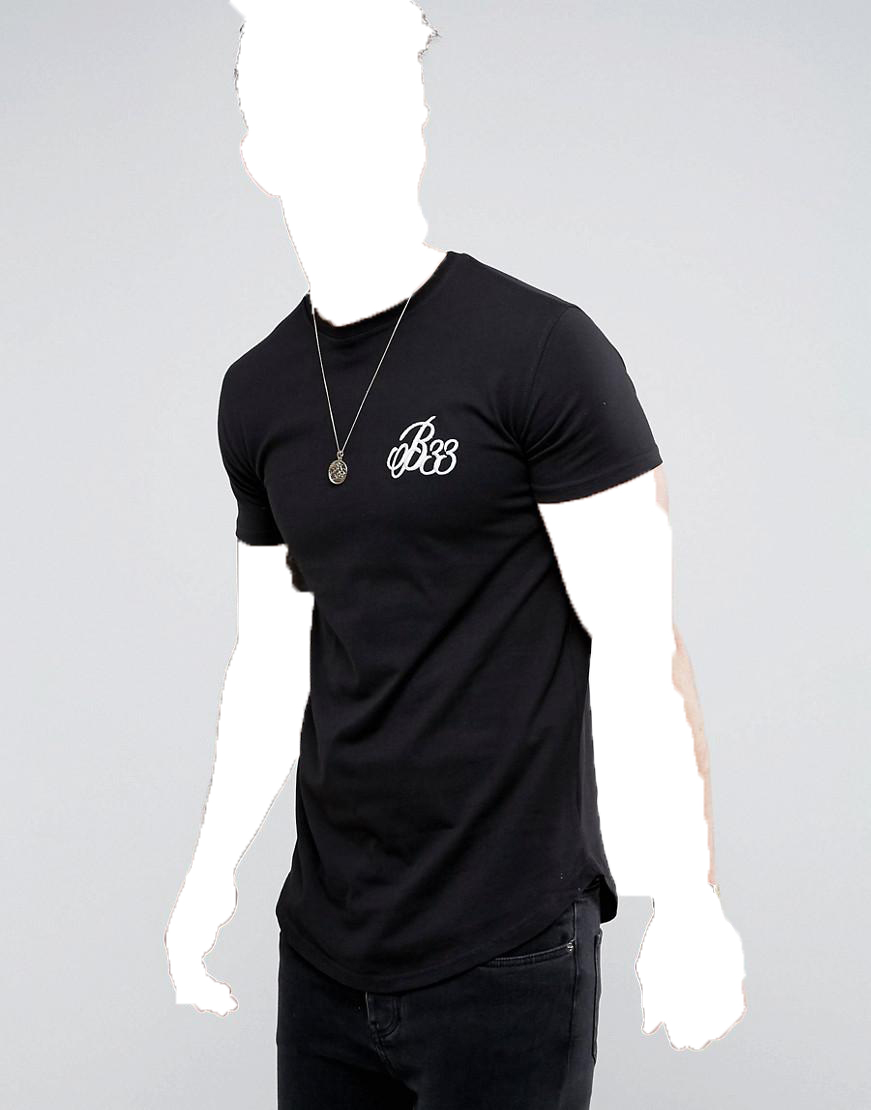teeshirt: (200, 251, 668, 973)
